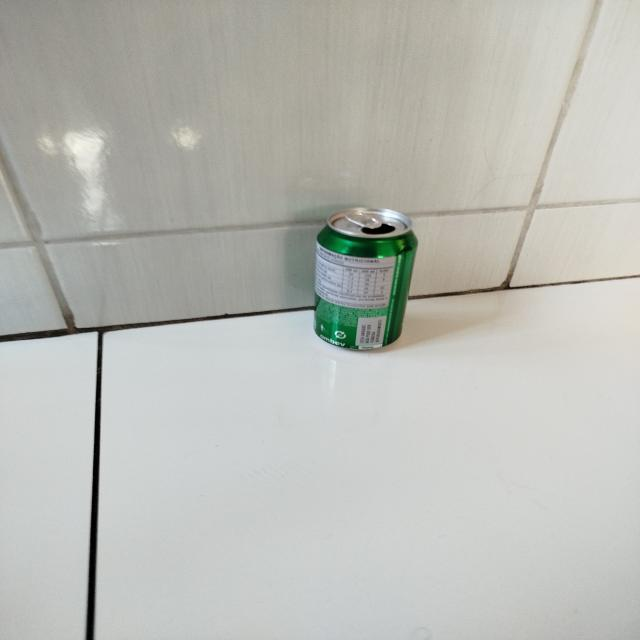Guarana: (308, 203, 421, 354)
